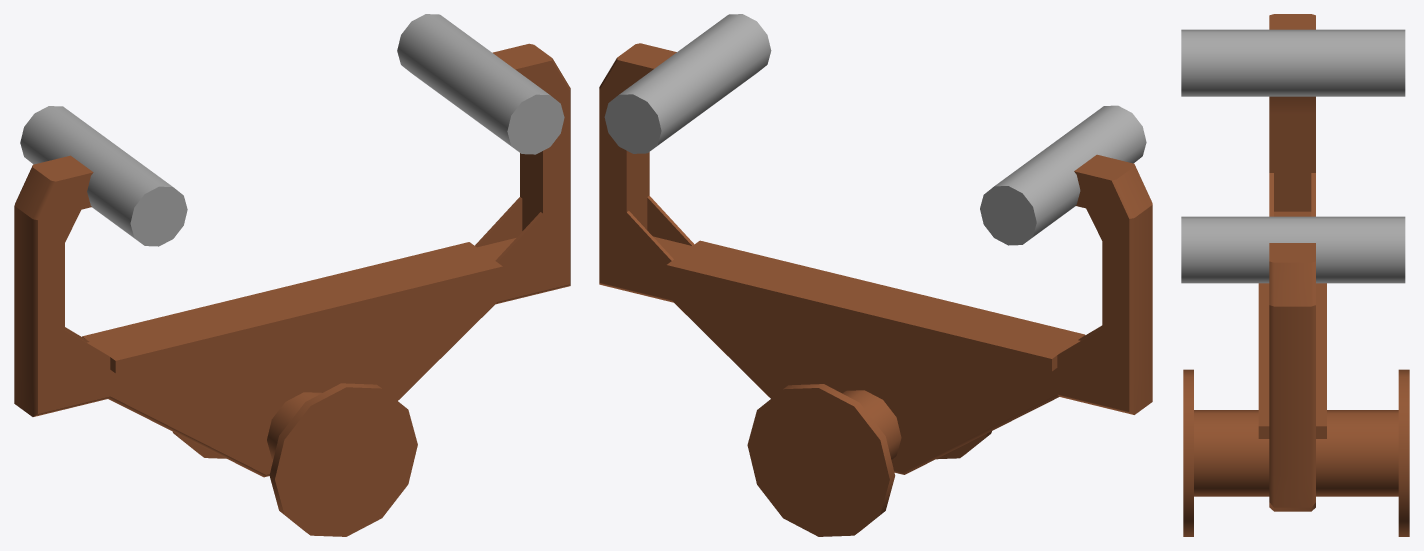
The model's file is petit rail (1).fbx.
3 views of the same model, side by side, from view 1: azimuth 30°, elevation 25°; view 2: azimuth 150°, elevation 25°; view 3: azimuth 270°, elevation 25° (orthographic). The views are drawn at different scales.
Parts seen in each view (by area): view 1: polySurface211; view 2: polySurface211; view 3: polySurface211.
Boxes of the visible parts, bbox=[...] form: polySurface211: bbox=[14, 14, 570, 536]; polySurface211: bbox=[599, 14, 1152, 536]; polySurface211: bbox=[1181, 14, 1409, 536].
Bounding box in the file's own units: 7.24 × 5.11 × 2.62.
